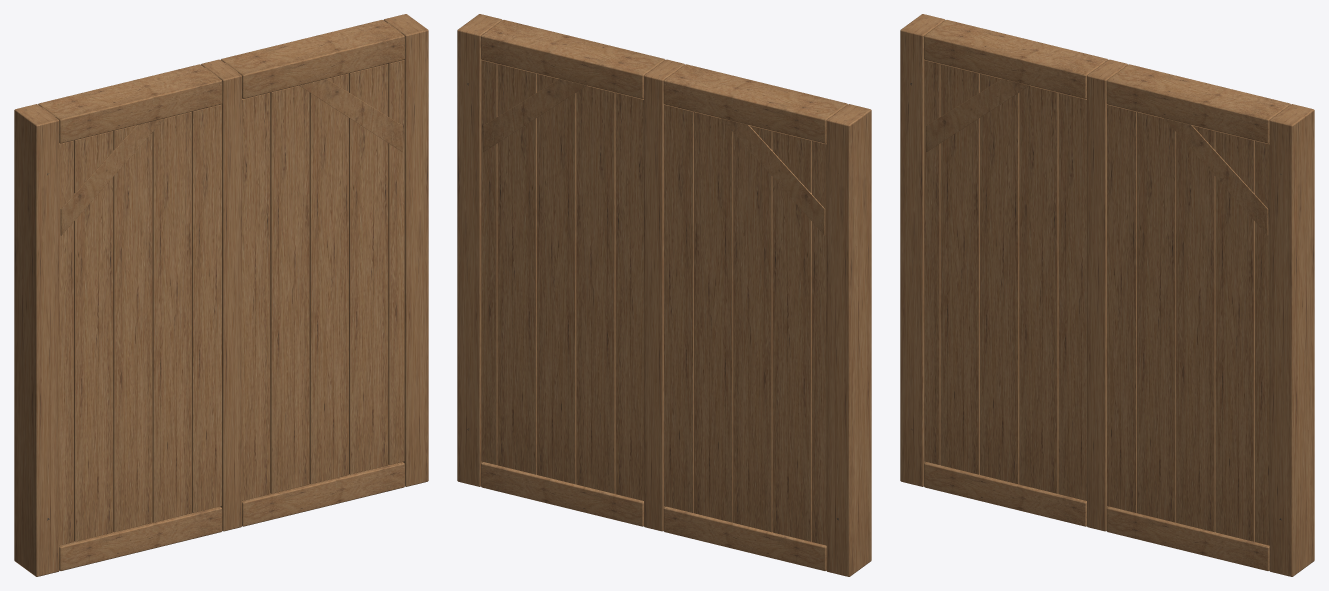
The model's file is SM_FacilityRooms_WoodWall200.fbx.
3 renders of one model, left to right at view 1: azimuth 30°, elevation 25°; view 2: azimuth 150°, elevation 25°; view 3: azimuth 330°, elevation 25°, orthographic.
Visible parts, largest first — view 1: SM_FacilityRooms_WoodWall200; view 2: SM_FacilityRooms_WoodWall200; view 3: SM_FacilityRooms_WoodWall200.
Part boxes in pixels (x1,y1,x2,y2): SM_FacilityRooms_WoodWall200: [14, 14, 428, 576]; SM_FacilityRooms_WoodWall200: [457, 14, 871, 576]; SM_FacilityRooms_WoodWall200: [900, 14, 1314, 576].
Size of what is drawn, in the model's own units: 200 by 20 by 220.
